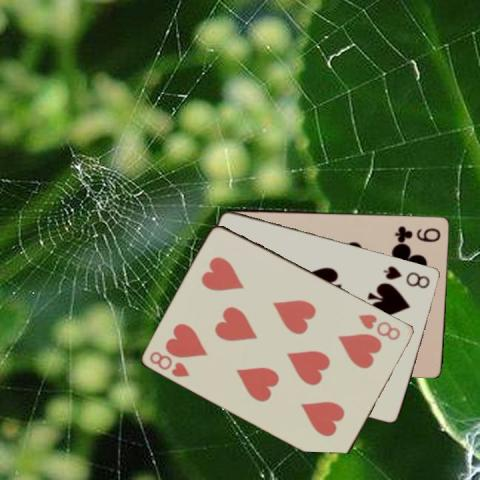8h: (355, 311, 403, 342), (147, 348, 192, 379)
8s: (380, 263, 432, 290)
9c: (392, 222, 442, 241)
